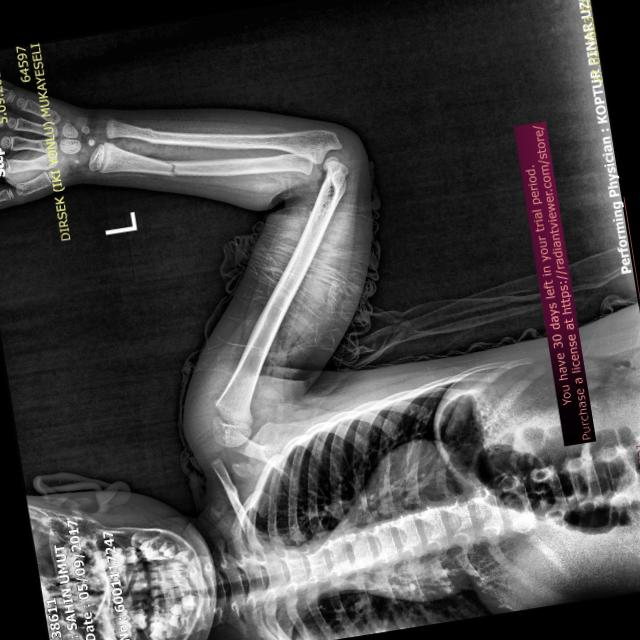Fracture: (160, 156, 183, 180)
